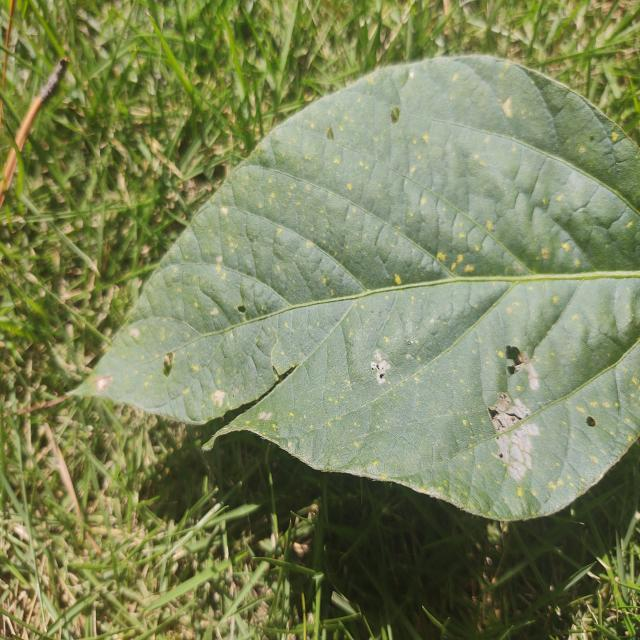Soybean: (82, 54, 640, 525)
downey_mildew: (468, 284, 637, 463), (297, 104, 415, 327), (486, 346, 544, 484), (484, 351, 541, 466), (438, 348, 496, 447), (205, 371, 299, 432), (365, 298, 426, 386), (570, 376, 637, 452), (254, 362, 299, 406), (505, 346, 539, 390), (488, 395, 527, 432), (580, 416, 620, 441), (371, 350, 391, 386), (547, 473, 577, 493), (88, 372, 115, 394), (513, 397, 533, 419), (526, 361, 540, 390), (505, 345, 524, 365), (494, 393, 512, 412), (162, 351, 175, 377), (404, 316, 415, 341), (212, 389, 226, 407), (501, 97, 513, 117), (258, 411, 273, 421), (586, 416, 599, 427), (129, 327, 140, 339), (491, 451, 504, 461), (326, 126, 334, 140), (561, 242, 571, 252), (464, 264, 475, 273), (541, 247, 549, 259), (437, 252, 446, 262), (611, 132, 619, 142), (486, 220, 493, 230), (574, 257, 581, 266)
